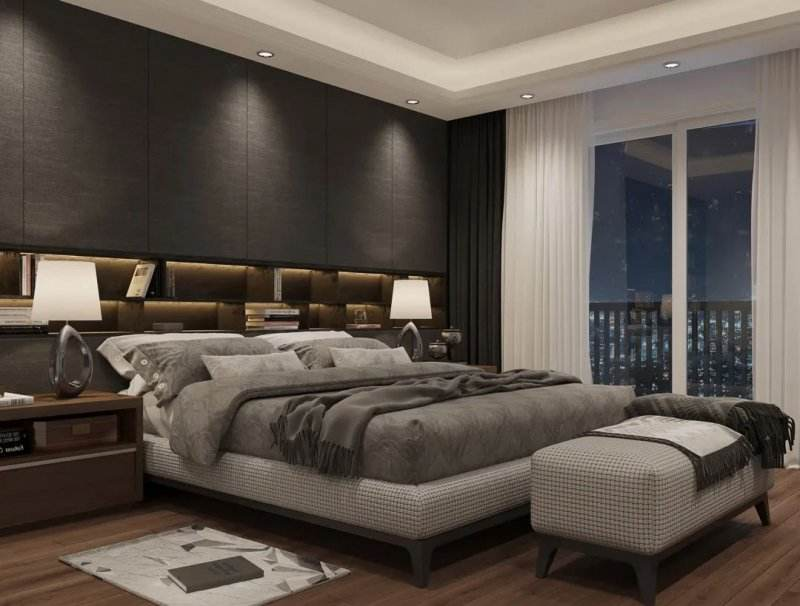床: (133, 346, 637, 563)
枕头: (109, 328, 411, 401)
灯: (27, 255, 99, 394), (385, 274, 432, 362), (659, 58, 683, 74), (251, 48, 277, 62), (517, 88, 537, 104), (401, 97, 421, 109)
